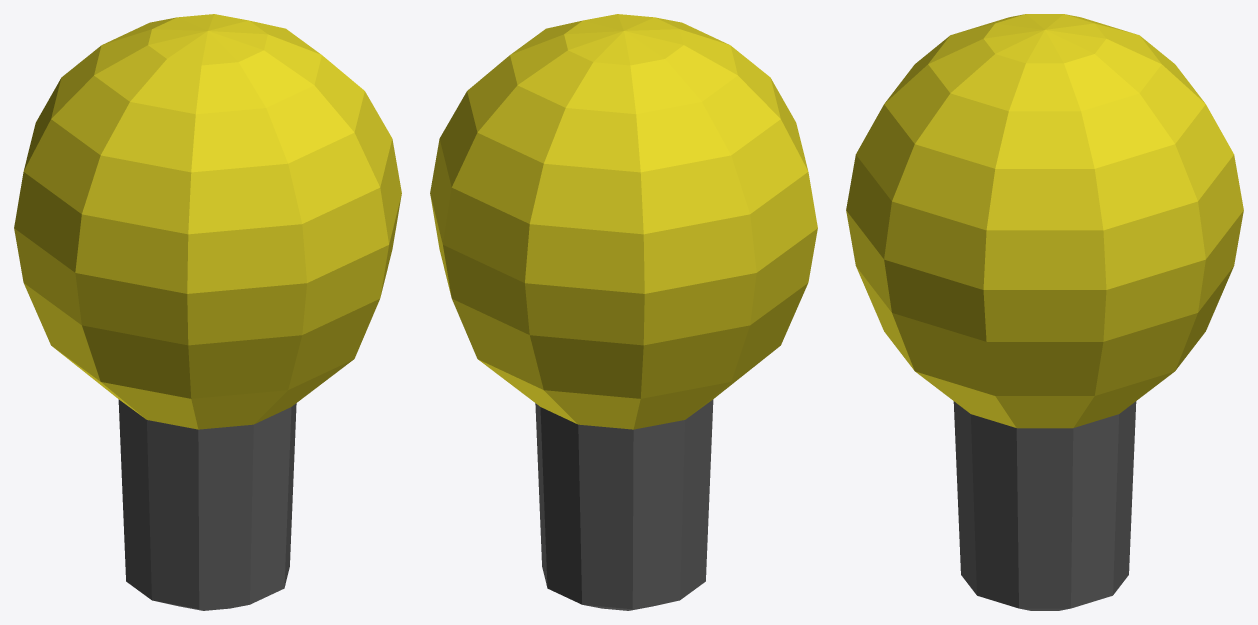
Rendered from Lamp.fbx.
3 renders of one model, left to right at view 1: azimuth 30°, elevation 25°; view 2: azimuth 150°, elevation 25°; view 3: azimuth 270°, elevation 25°, orthographic.
Visible parts, largest first — view 1: Lamp; view 2: Lamp; view 3: Lamp.
Part boxes in pixels (left/top/right/bottom): Lamp: left=14, top=14, right=401, bottom=610; Lamp: left=430, top=14, right=817, bottom=610; Lamp: left=846, top=14, right=1243, bottom=610.
Bounding box in the file's own units: 190 × 316 × 200.
